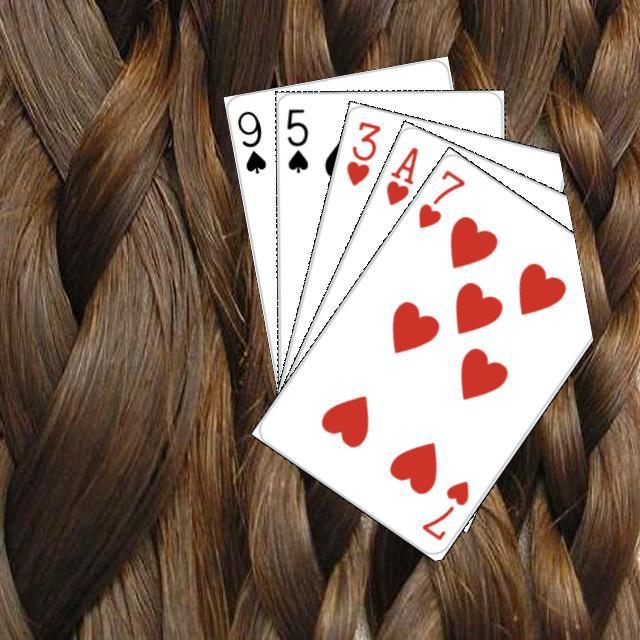3h: (341, 116, 383, 188)
5s: (282, 104, 310, 175)
7h: (416, 476, 471, 543), (413, 164, 467, 231)
9s: (232, 106, 268, 175)
Ah: (380, 142, 420, 208)
